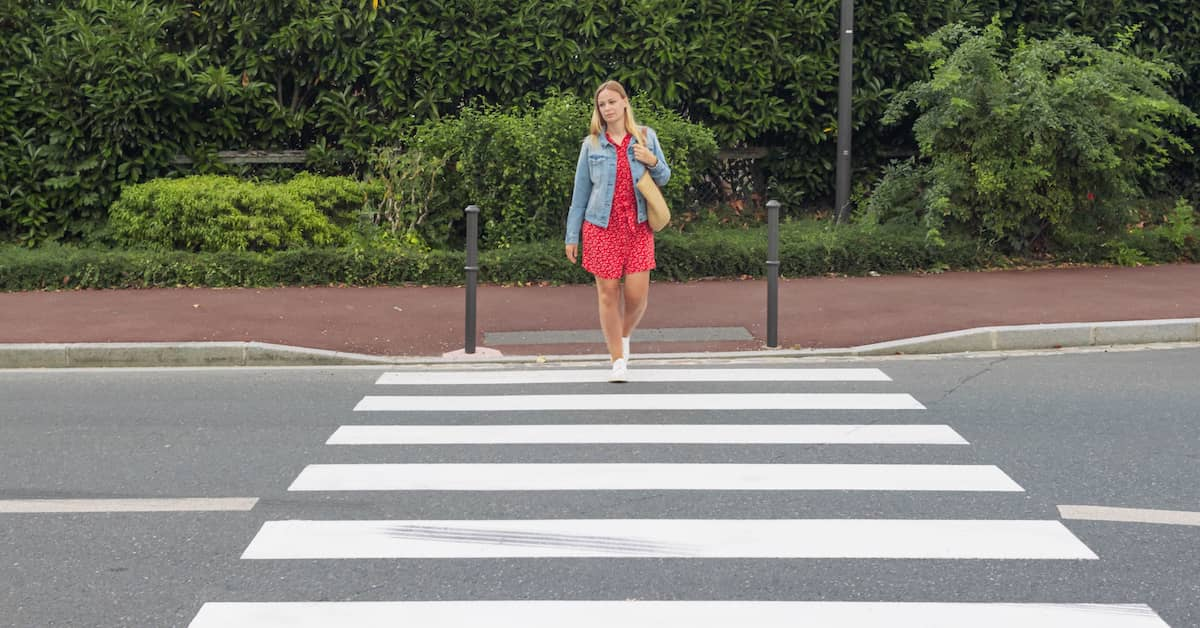Crosswalk: (202, 350, 1174, 628)
Person: (562, 79, 682, 390)
